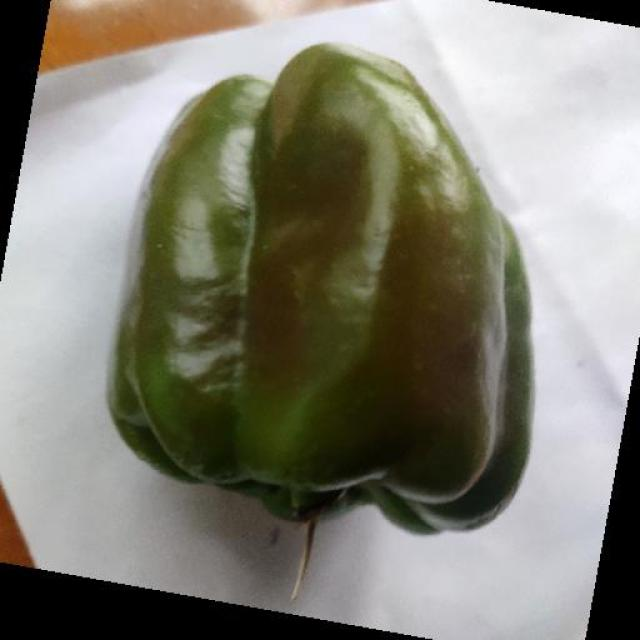Stale_Capsicum: (121, 89, 519, 496)
